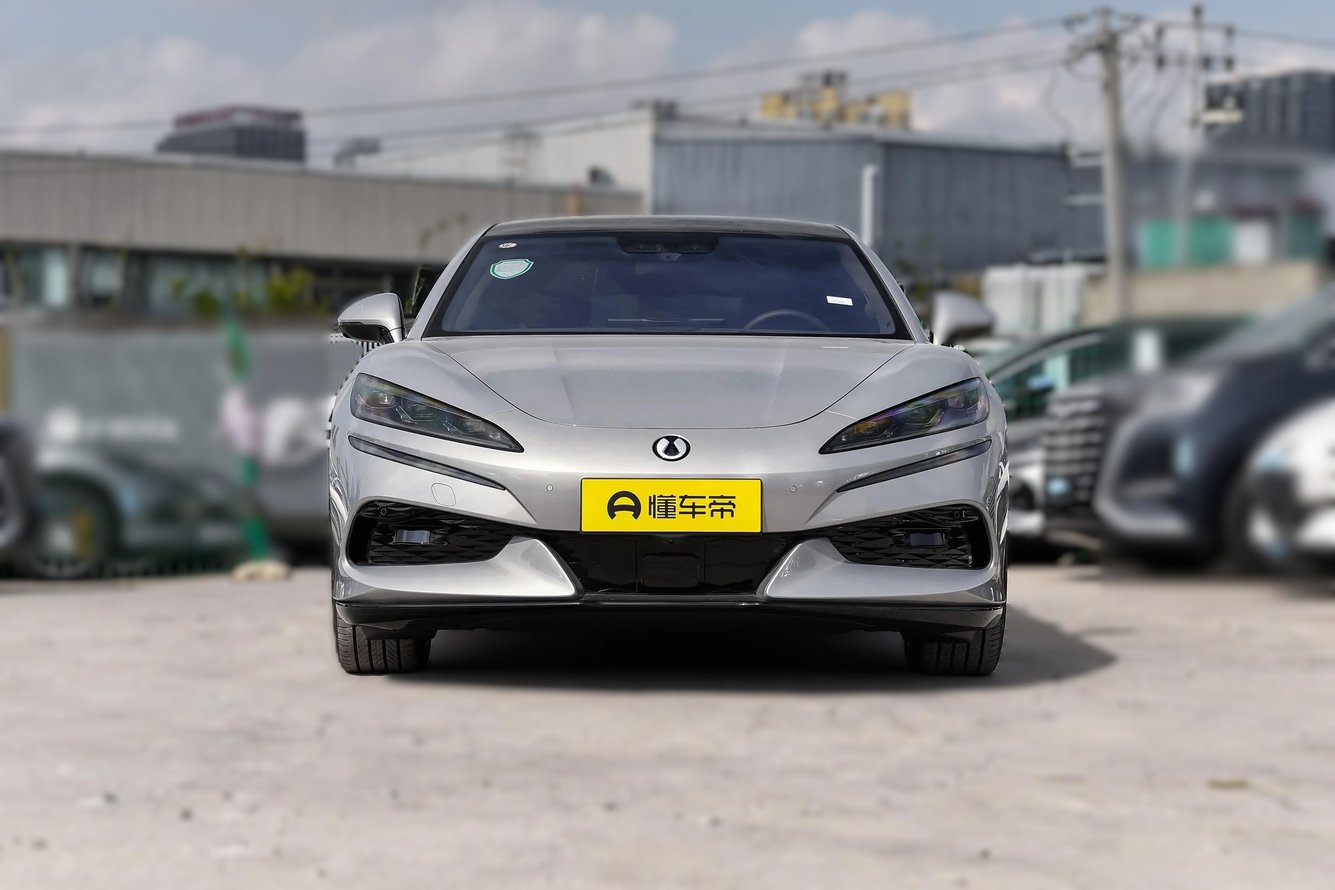DENZA: (657, 439, 686, 458)
